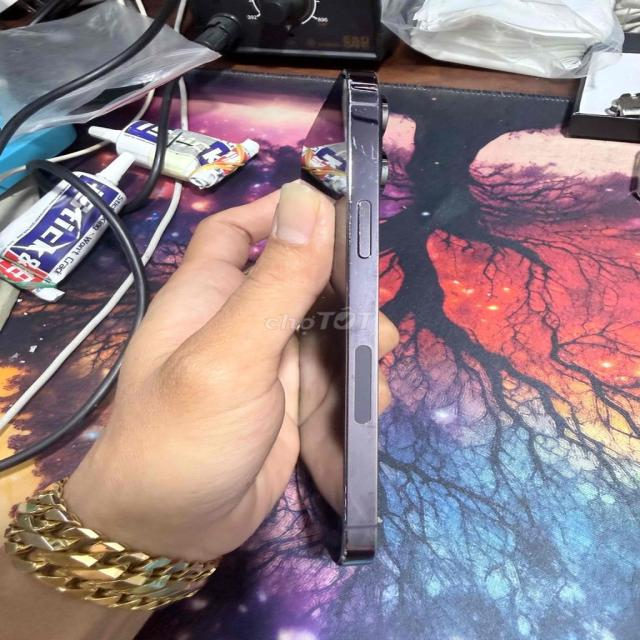scratch: (347, 191, 389, 277), (345, 118, 383, 194), (337, 475, 353, 570), (335, 66, 356, 111)
